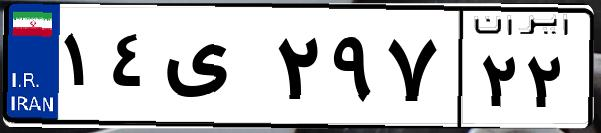1: (57, 26, 110, 100)
2: (270, 28, 330, 110), (475, 38, 525, 113), (525, 38, 570, 115)
4: (110, 28, 158, 98)
7: (385, 28, 445, 110)
9: (330, 28, 385, 110)
ی: (158, 20, 270, 120)
